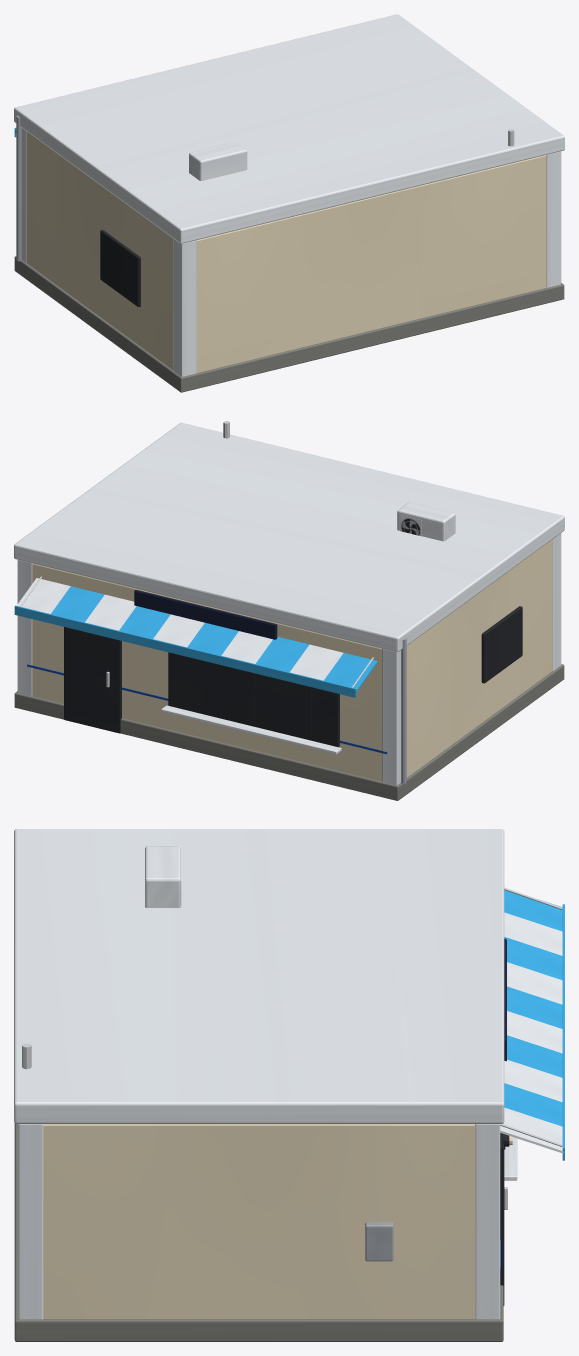
The model's file is Office.glb.
3 views of the same model, one above another, from view 1: azimuth 30°, elevation 25°; view 2: azimuth 150°, elevation 25°; view 3: azimuth 270°, elevation 25° (orthographic). The views are drawn at different scales.
Visible parts, largest first — view 1: Shell, Side, Roof; view 2: Shell, Front, Awning, Side, Sign, Roof; view 3: Shell, Awning, Roof, Front, Side.
Part boxes in pixels (x1,y1,x2,y2): Shell: (14,14,564,392); Side: (16,115,140,306); Roof: (189,129,514,180); Shell: (14,422,564,800); Front: (64,627,341,754); Awning: (14,576,377,697); Side: (401,606,522,783); Sign: (134,590,277,639); Roof: (223,421,455,541); Shell: (14,829,504,1341); Awning: (500,887,564,1160); Roof: (22,846,181,1069); Front: (500,1133,517,1305); Side: (365,1222,393,1261).
Size of the model in its own units: 8.25 by 3.7 by 6.88.
Materials: 3 (1 with a texture image).
